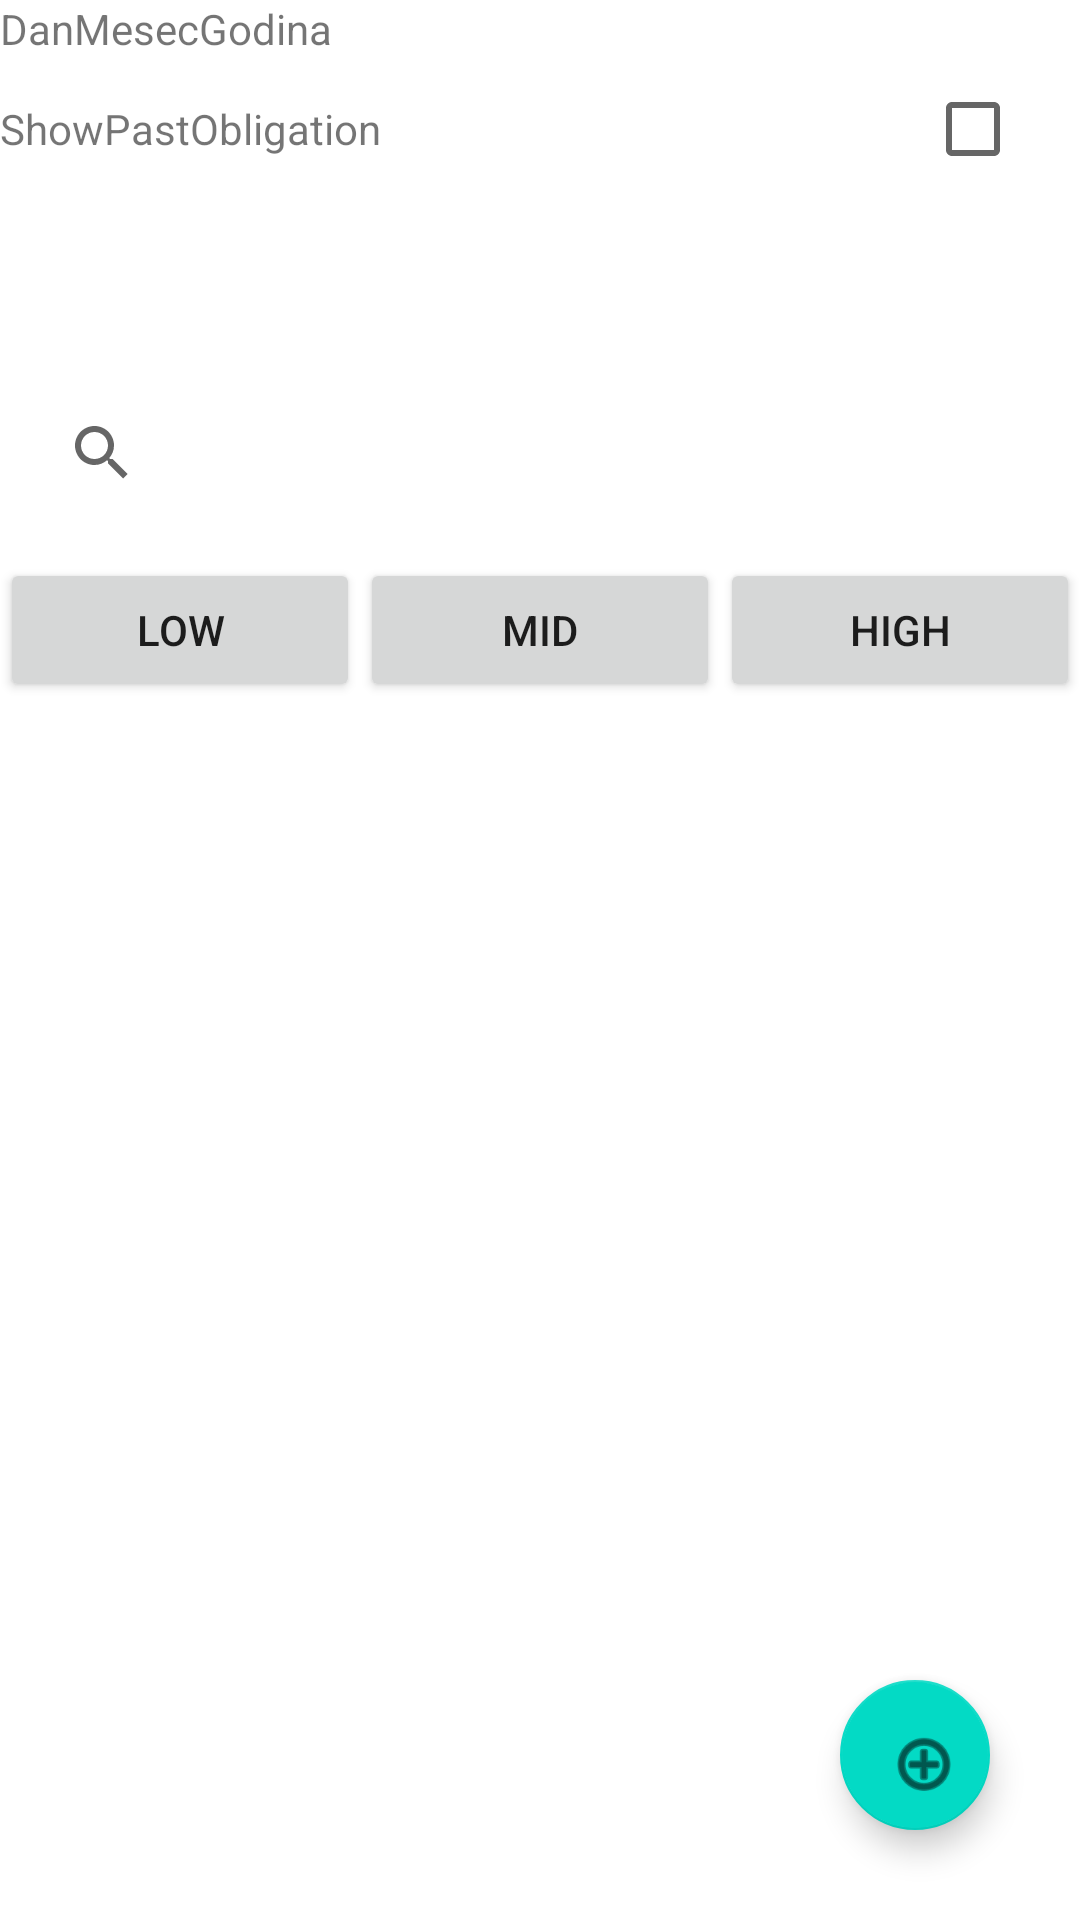

Where to tap for icons on this 1080 x 1920 app screen, as (x,y):
add: (915,1755)
